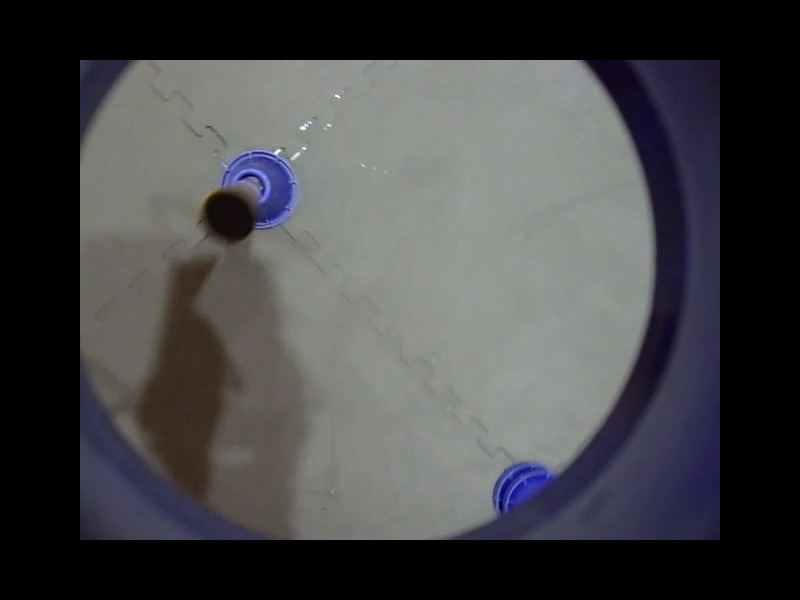tip: (482, 73, 595, 178)
